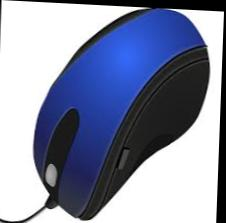mouse: (28, 2, 216, 223)
